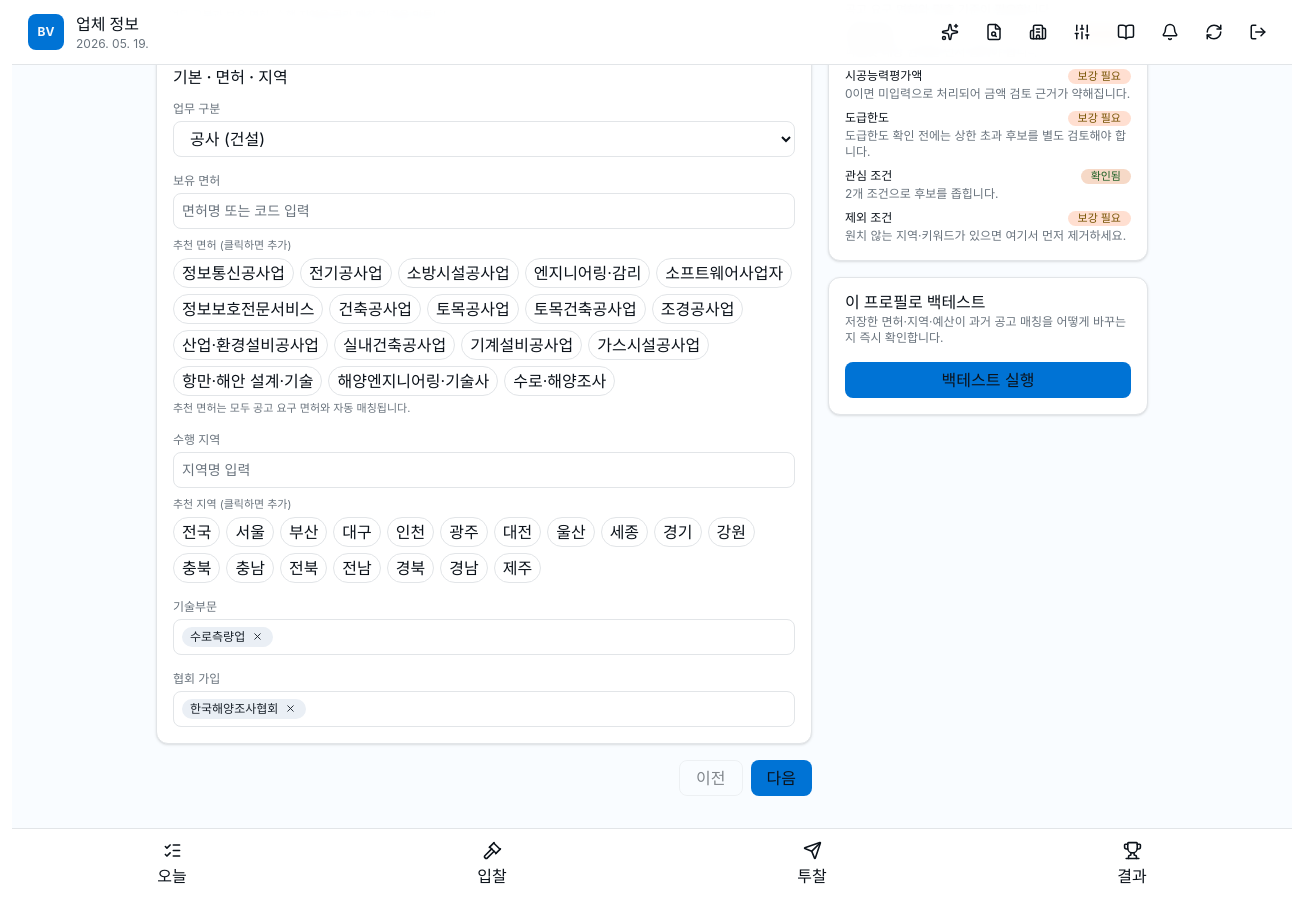
Test: CompanyInfoEditor › 등록 마법사 (profile_configured=false) › 다음/이전 버튼으로 단계가 진행·후퇴한다
(page scrolled)
Check: the heading "기본 · 면허 · 지역" is shown, box x1=173 y1=67 x2=288 y2=87
Step 1 → 2
Click the button "다음": (781, 778) x1=750 y1=760 x2=812 y2=796
(page scrolled)
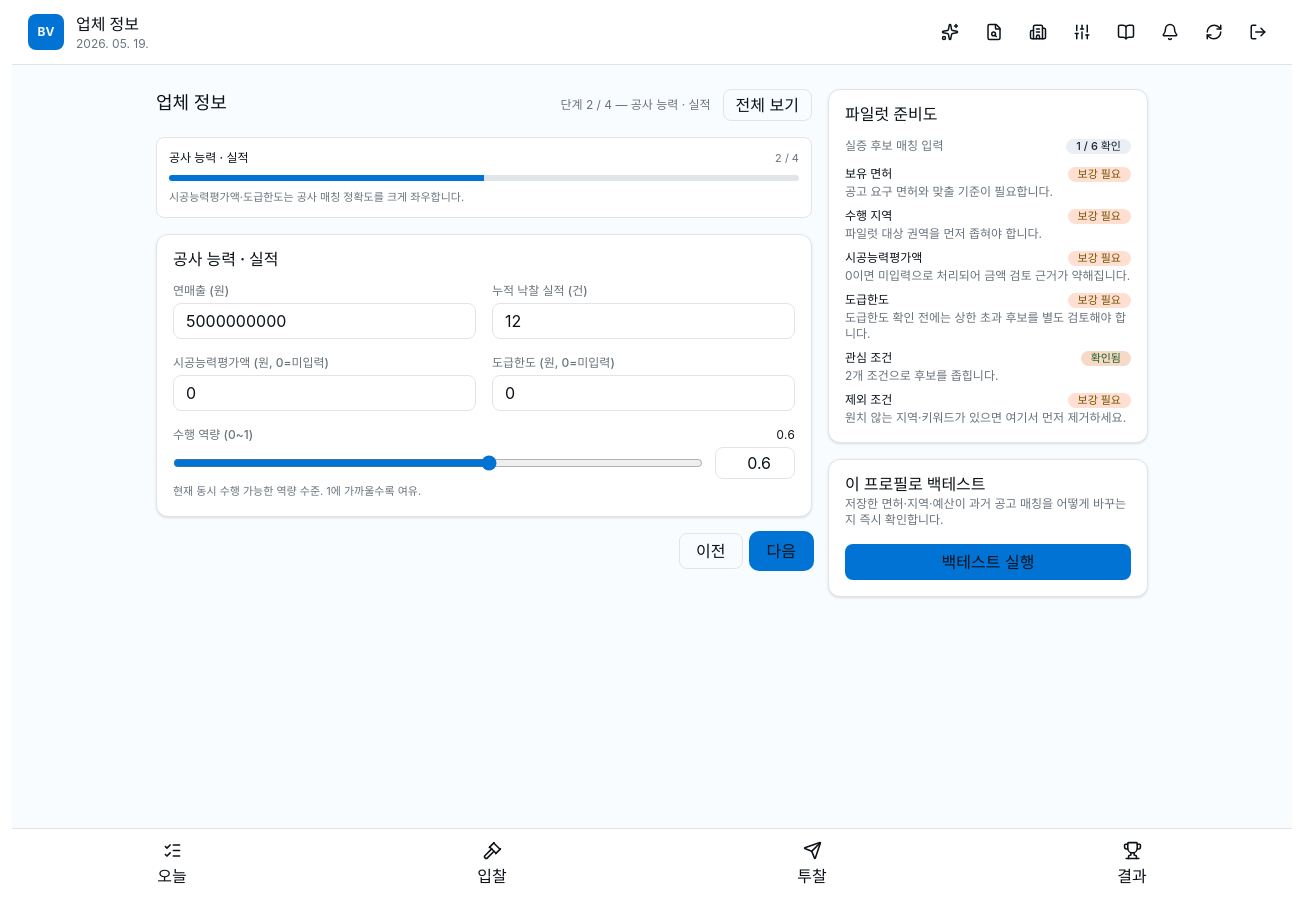
Check: the heading "기본 · 면허 · 지역" is not shown
Check: the heading "공사 능력 · 실적" is shown, box x1=173 y1=249 x2=278 y2=269
Check: the text "단계 2 / 4 — 공사 능력 · 실적" is shown, box x1=560 y1=97 x2=711 y2=113
Step 2 → 3
Click the button "다음": (781, 550) x1=750 y1=532 x2=812 y2=568
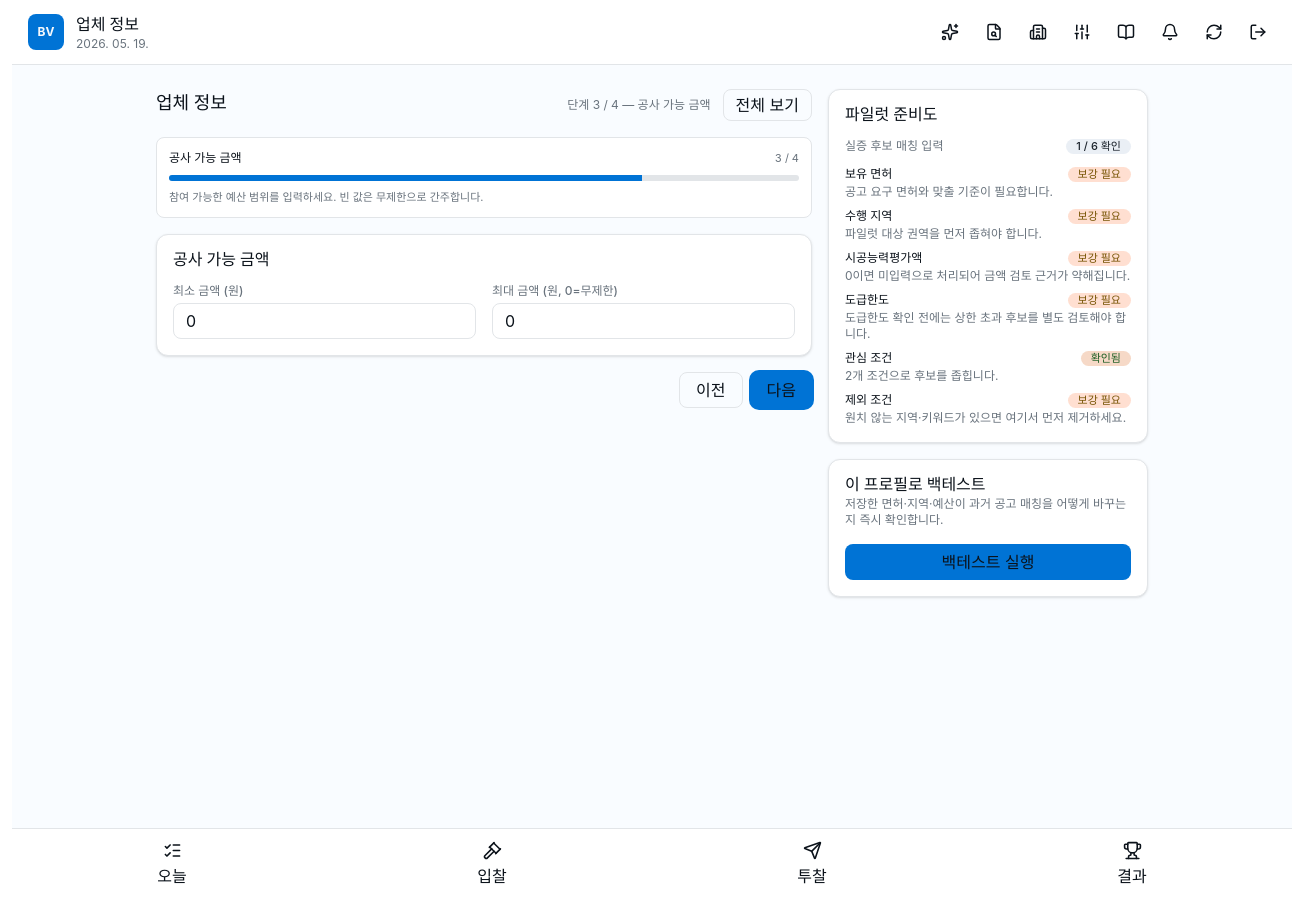
Check: the heading "공사 가능 금액" is shown, box x1=173 y1=249 x2=269 y2=269
Step 3 → 4 (마지막)
Click the button "다음": (781, 390) x1=750 y1=372 x2=812 y2=408
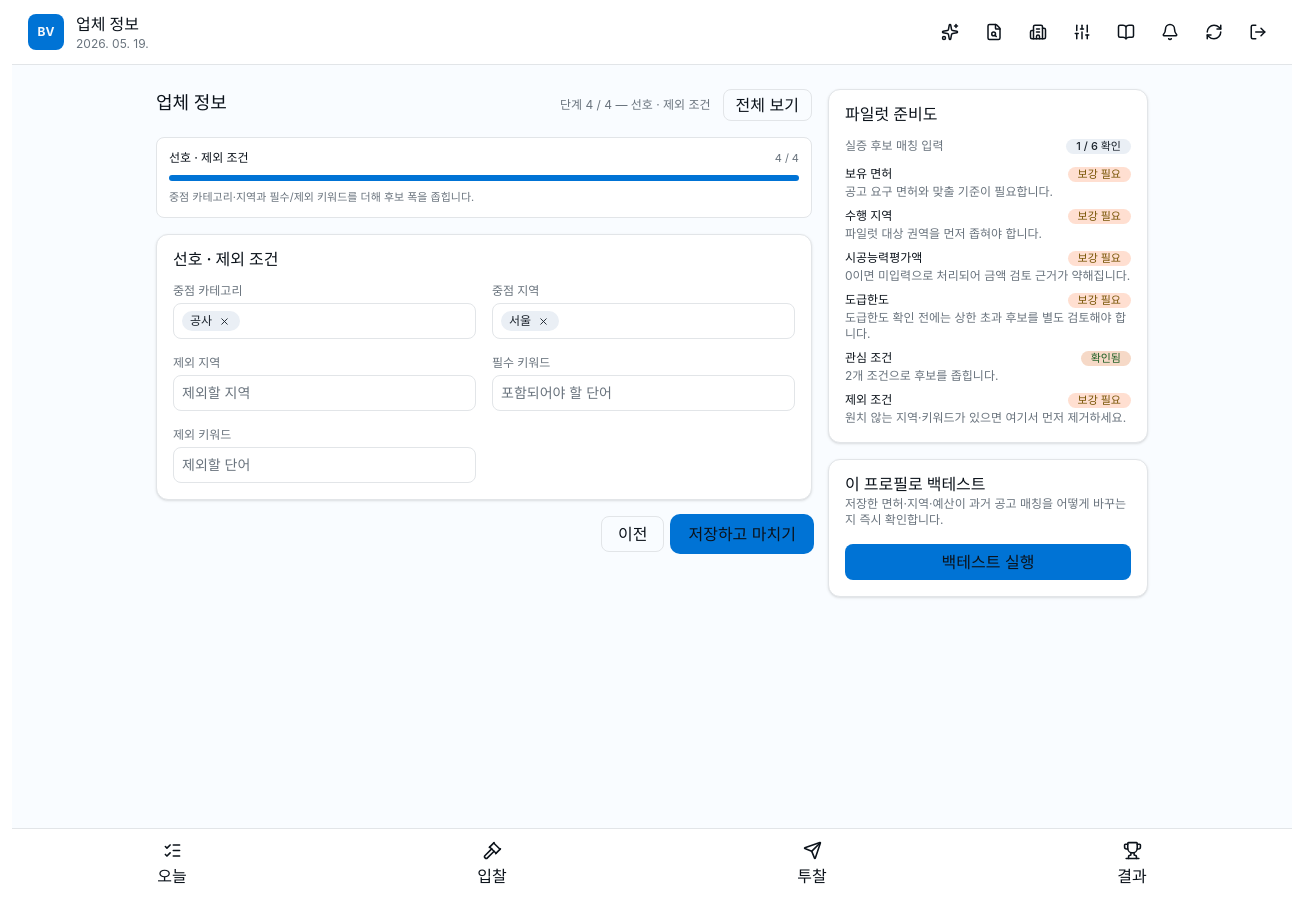
Check: the heading "선호 · 제외 조건" is shown, box x1=173 y1=249 x2=278 y2=269
Check: the button "다음" is gone
Check: the button "저장하고 마치기" is shown, box x1=672 y1=516 x2=812 y2=552
뒤로 돌아가기 (4 → 3)
Click the button "이전": (633, 534) x1=601 y1=516 x2=664 y2=552
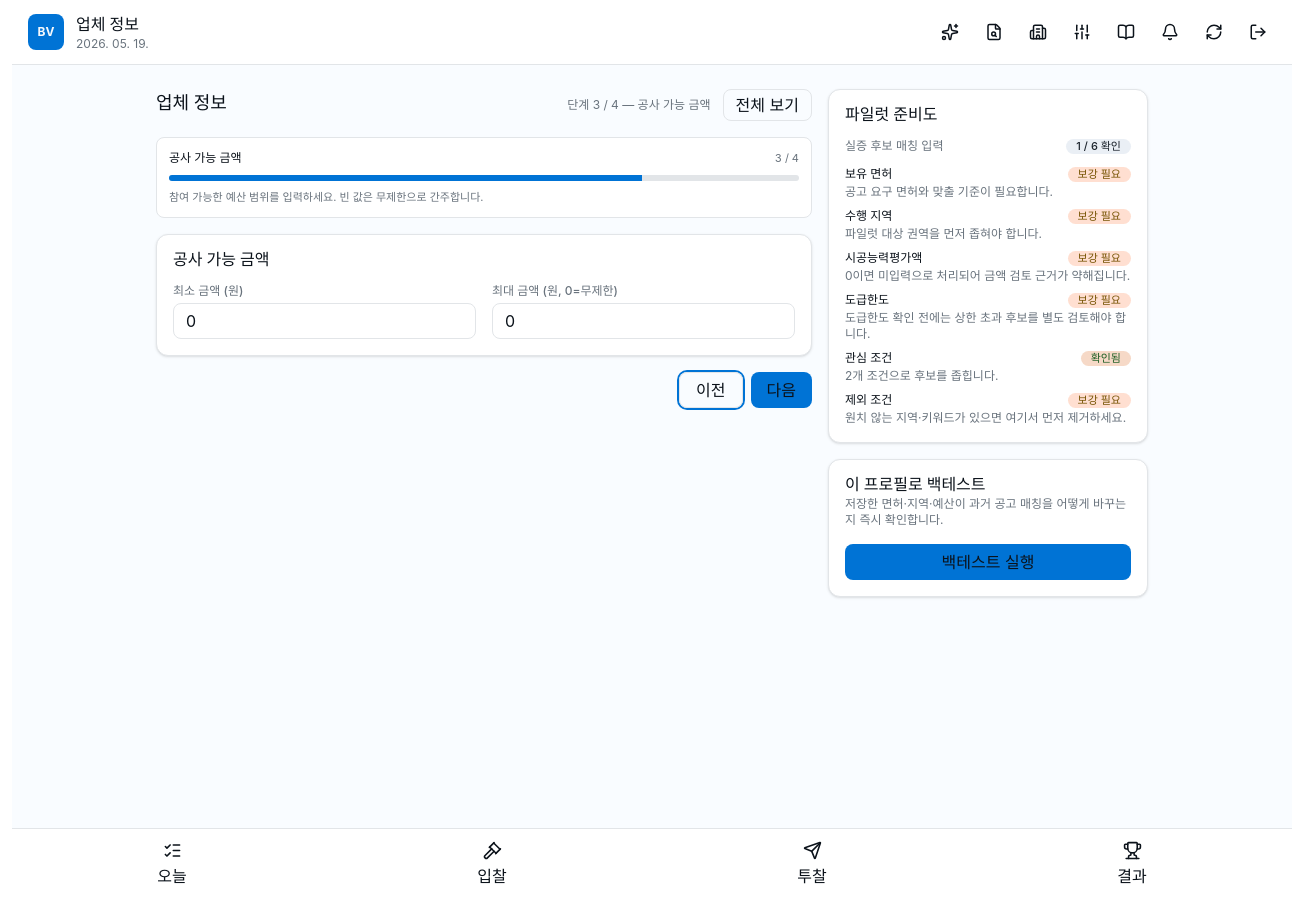
Check: the heading "공사 가능 금액" is shown, box x1=173 y1=249 x2=269 y2=269
Check: the text "선호 · 제외 조건" is gone
